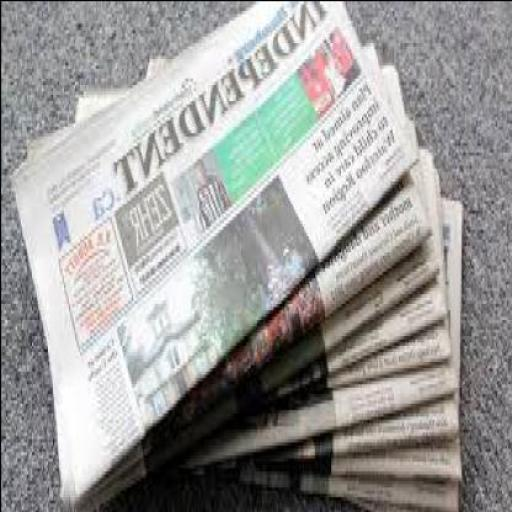paper: (12, 1, 418, 506), (64, 164, 448, 509), (81, 138, 440, 506), (61, 196, 463, 509), (78, 58, 430, 354), (146, 38, 434, 335)
